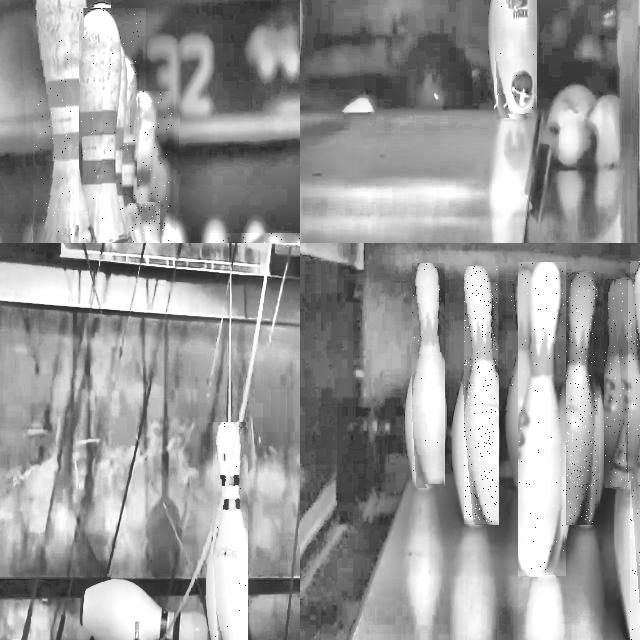bowling-pins: (37, 0, 109, 243), (519, 263, 564, 574), (81, 8, 133, 243), (464, 266, 497, 522), (567, 273, 597, 525), (213, 423, 247, 640), (412, 264, 443, 485), (506, 273, 537, 486), (605, 279, 630, 489), (494, 0, 535, 115), (140, 92, 159, 243), (133, 64, 139, 133)
